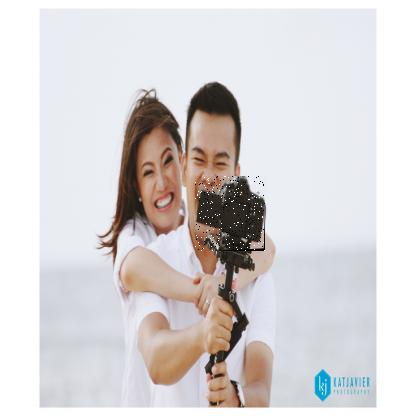Camera: (196, 178, 267, 254)
